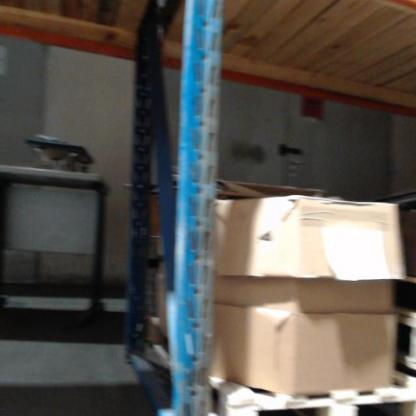pallets: (131, 336, 415, 411)
